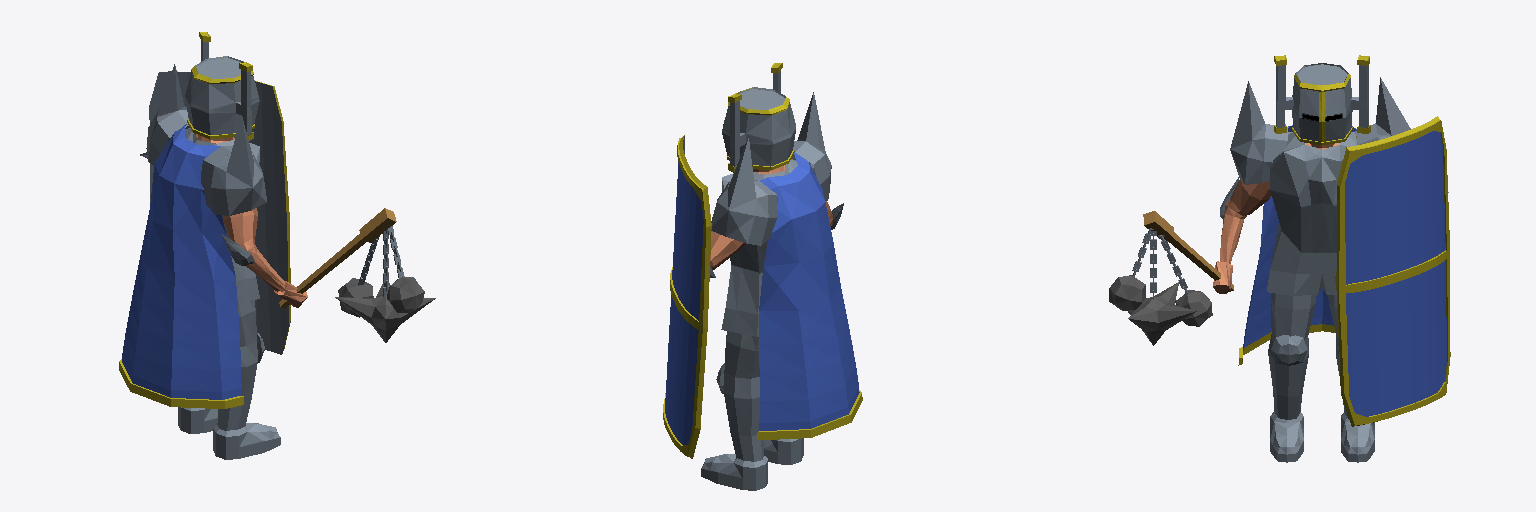
3 renders of one model, left to right at view 1: azimuth 30°, elevation 25°; view 2: azimuth 150°, elevation 25°; view 3: azimuth 270°, elevation 25°, orthographic.
Visible parts, largest first — view 1: Cube_Cube.002; view 2: Cube_Cube.002; view 3: Cube_Cube.002.
Part boxes in pixels (x1,y1,x2,y2): Cube_Cube.002: (119,32,435,459); Cube_Cube.002: (663,63,862,490); Cube_Cube.002: (1109,55,1450,462).
Size of the model in its own units: 3.98 by 7.05 by 5.62.
1 materials, 1 textured.